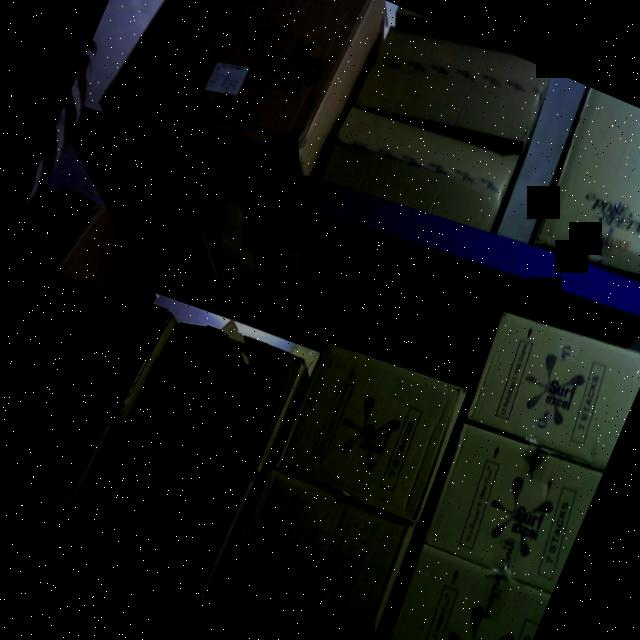box: (270, 327, 472, 531), (203, 464, 420, 640), (408, 409, 604, 599), (63, 418, 260, 606), (120, 300, 309, 482), (458, 297, 640, 480), (184, 0, 372, 165), (356, 12, 554, 164), (0, 258, 174, 430), (321, 98, 519, 242), (0, 359, 118, 541), (361, 535, 553, 640)
